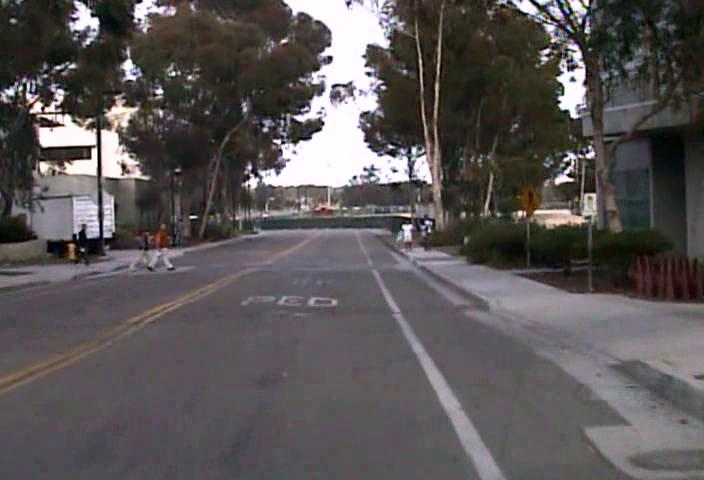pedestrianCrossing: (516, 183, 542, 213)
